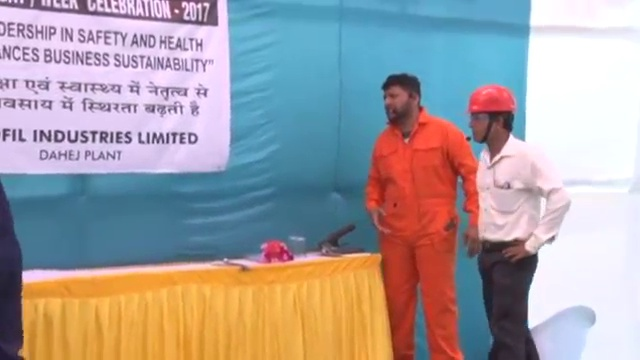helmet: (459, 81, 519, 116)
helmet_off: (380, 73, 420, 126)
helmet_on: (458, 83, 520, 148)
person: (365, 71, 482, 360), (459, 80, 573, 360)
